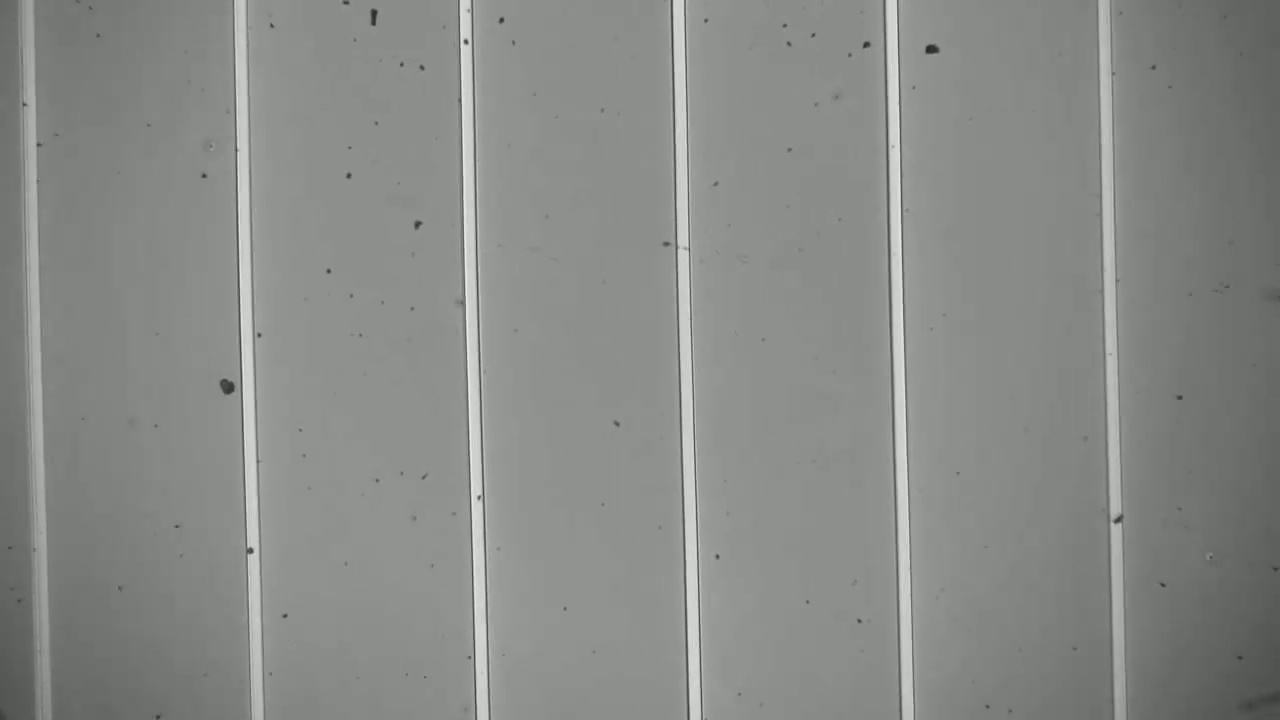stains_enbedded: (239, 538, 263, 566), (1108, 508, 1129, 528)
